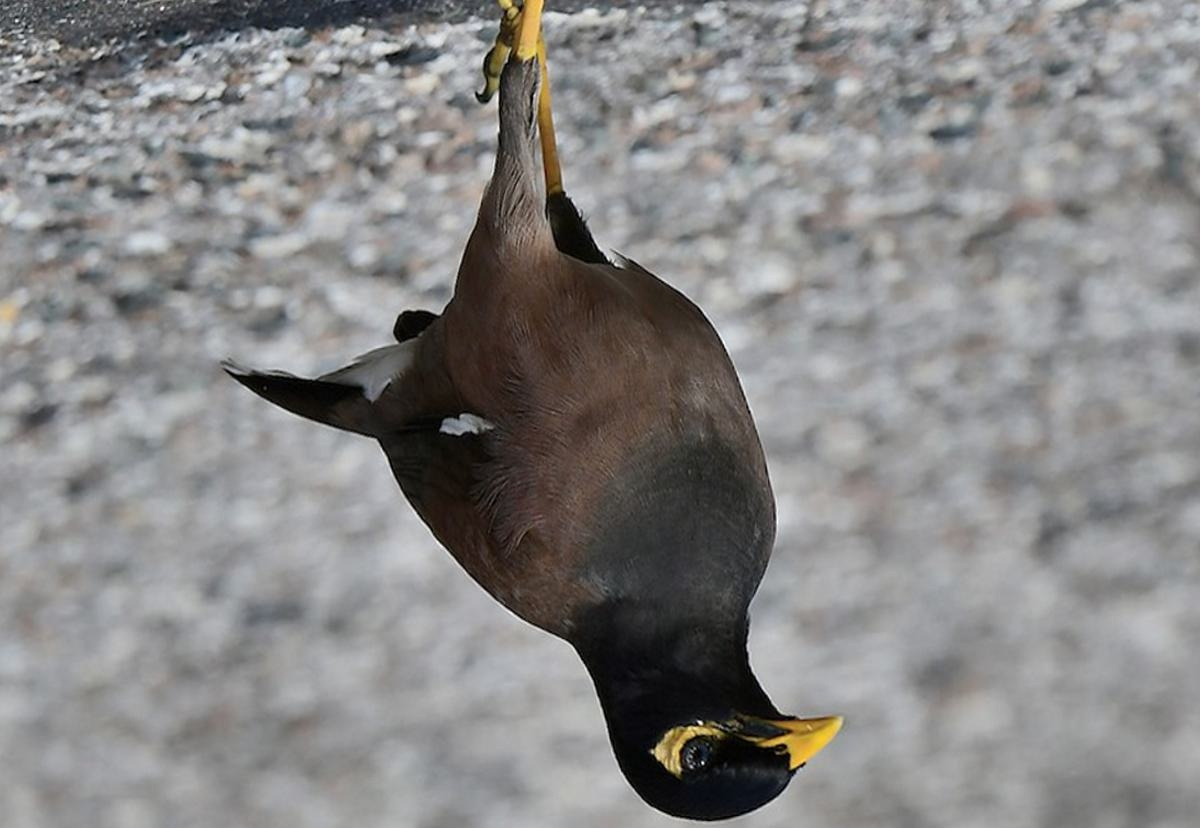myna: (269, 61, 867, 815)
